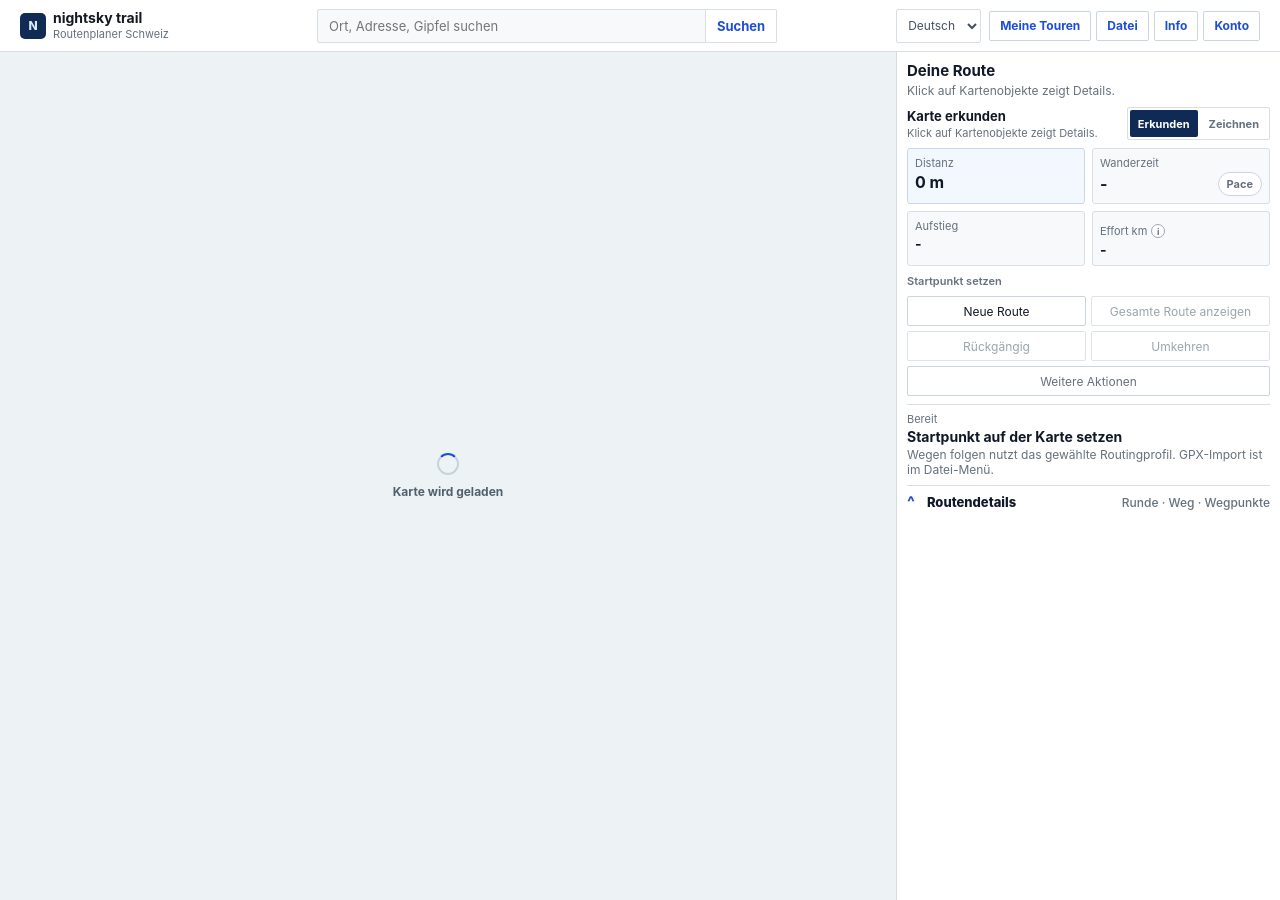
Test case: App › keeps tours, account, and GPX actions in separate menus
Click the button "Meine Touren".
click(1040, 26)  # box [989, 10, 1091, 40]
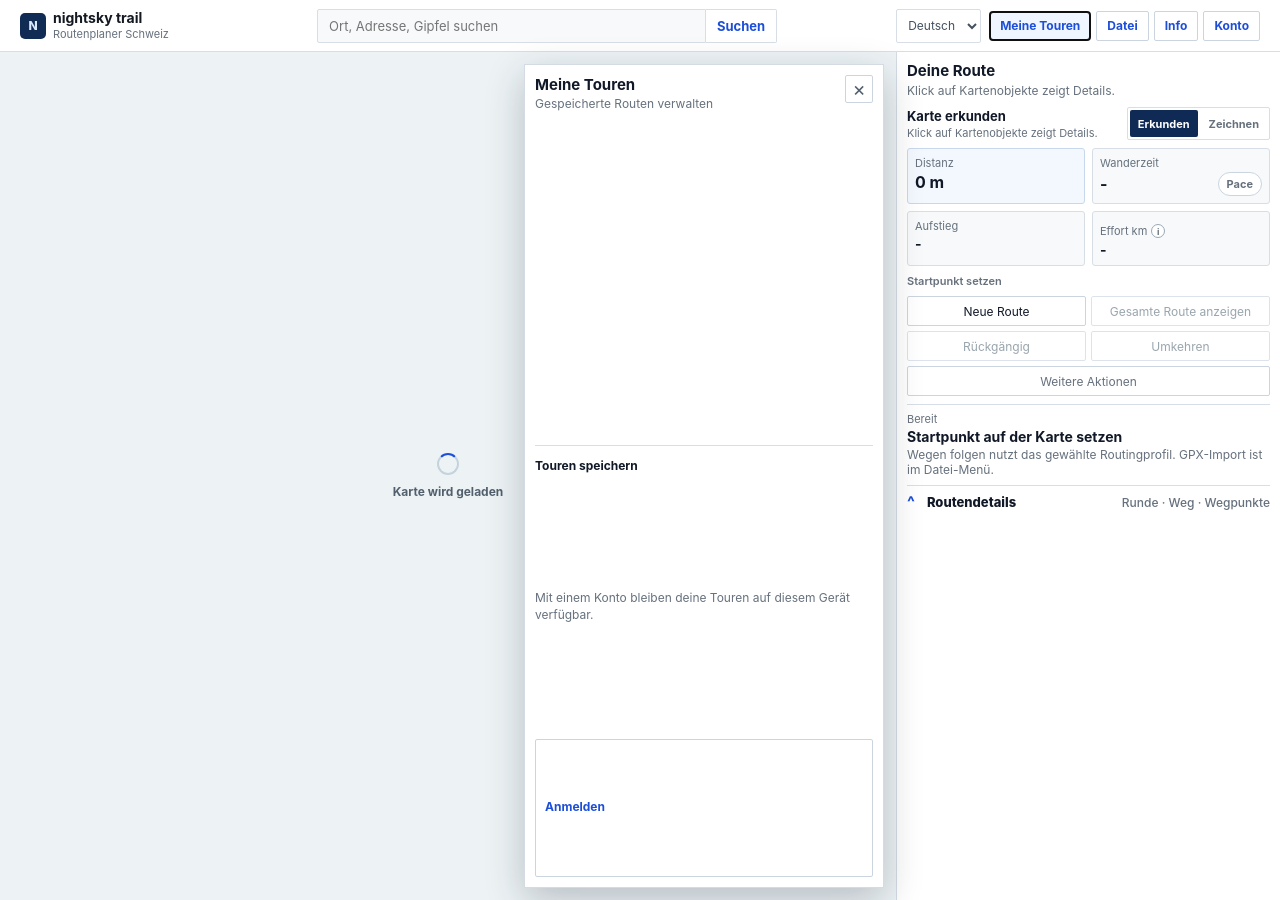
Expected: the dialog "Meine Touren" is shown, [524, 64, 884, 888]
Expected: the text "Gespeicherte Routen verwalten" is shown, [535, 96, 713, 111]
Expected: the text "Touren speichern" is shown, [535, 458, 638, 473]
Click the button "Datei".
click(1122, 26)  # box [1096, 10, 1149, 40]
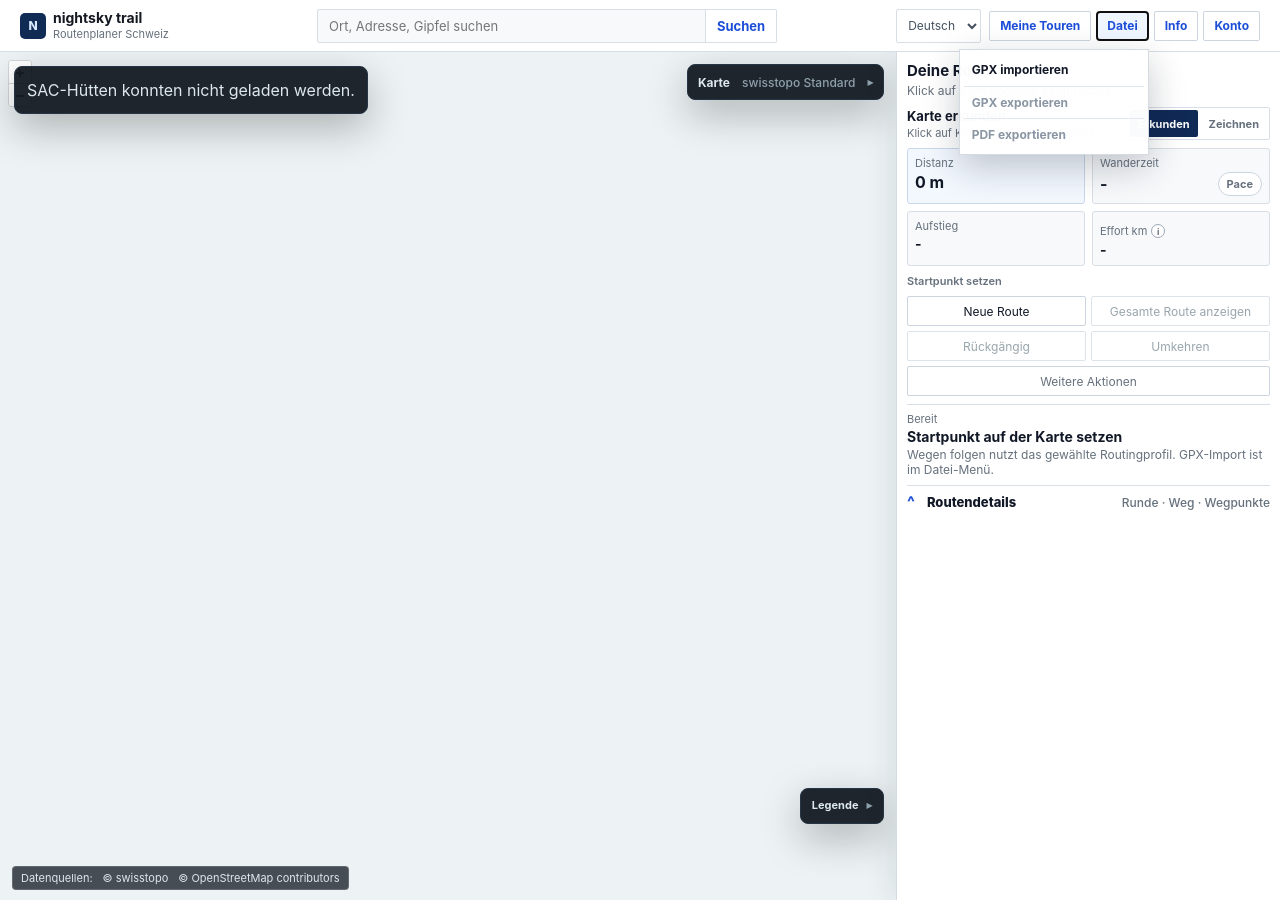
Expected: the button "GPX importieren" is shown, [964, 54, 1144, 86]
Expected: the button "PDF exportieren" is shown, [964, 118, 1144, 150]
Click the button "Konto".
click(1232, 26)  # box [1203, 10, 1260, 40]
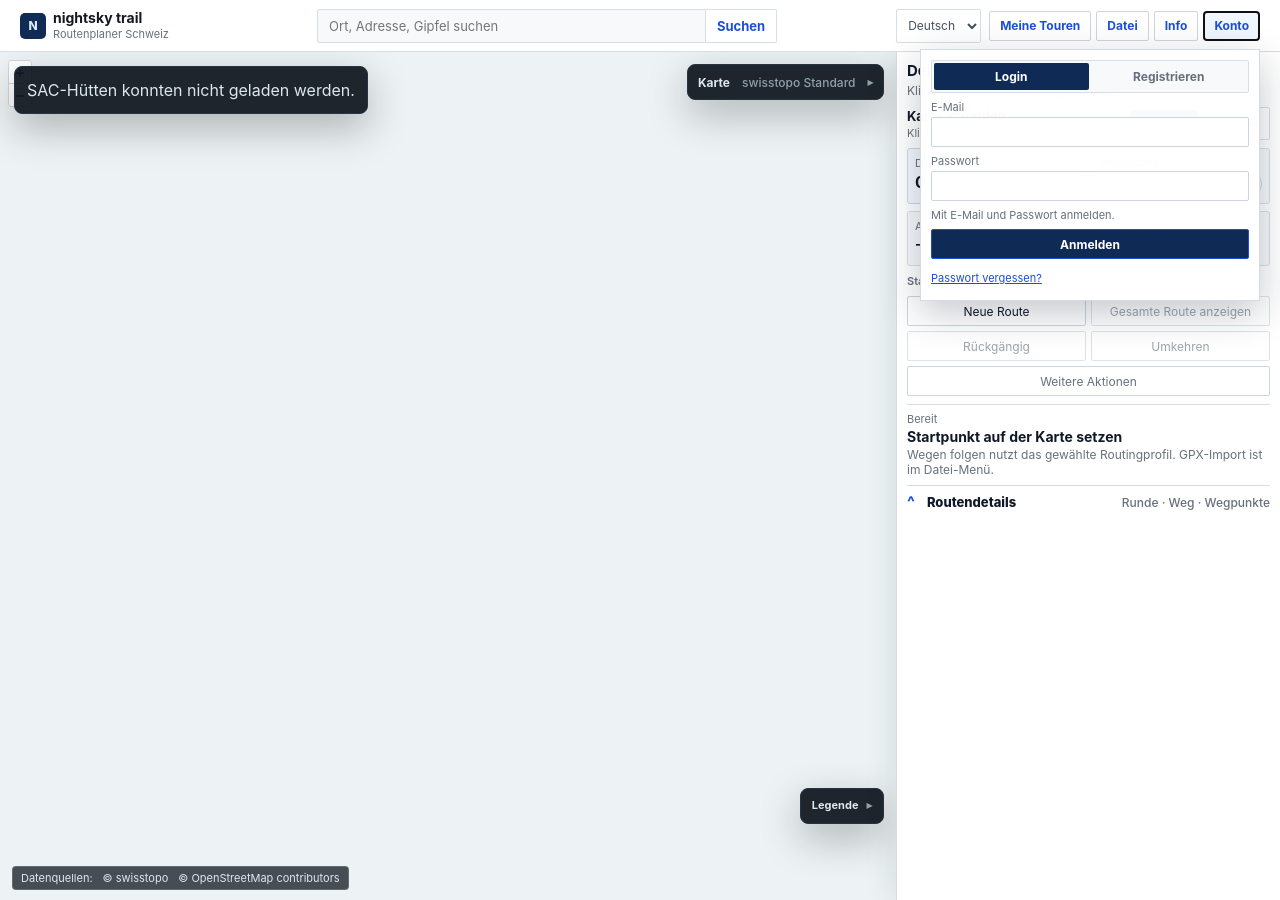
Expected: the element named "Konto" is shown, [920, 48, 1260, 301]
Expected: the button "Login" is shown, [934, 62, 1088, 90]
